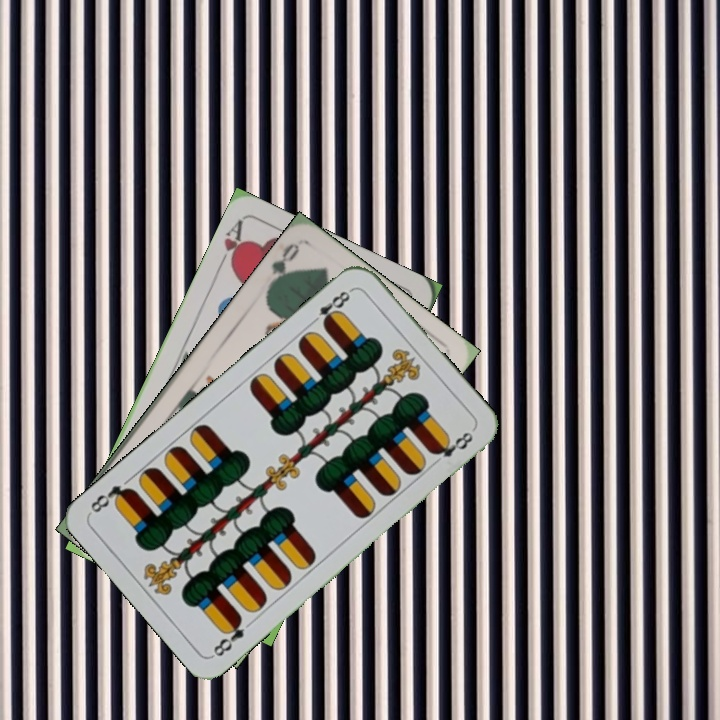E8: (306, 285, 355, 330), (209, 612, 247, 660)
GO: (263, 239, 302, 294)
HA: (214, 216, 248, 274)
